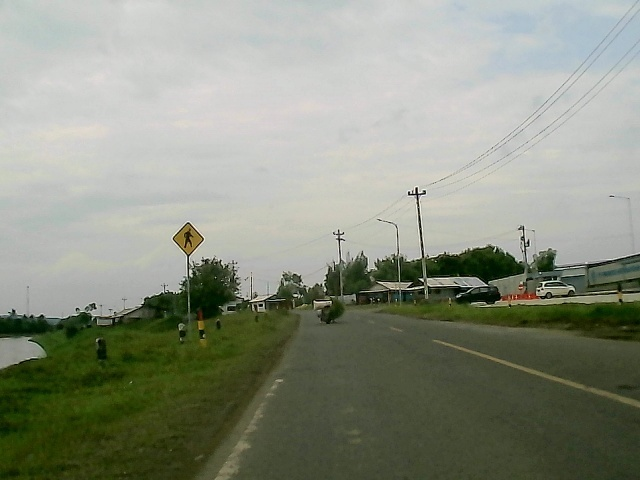Peringatan orang menyeberang: (167, 219, 205, 256)
